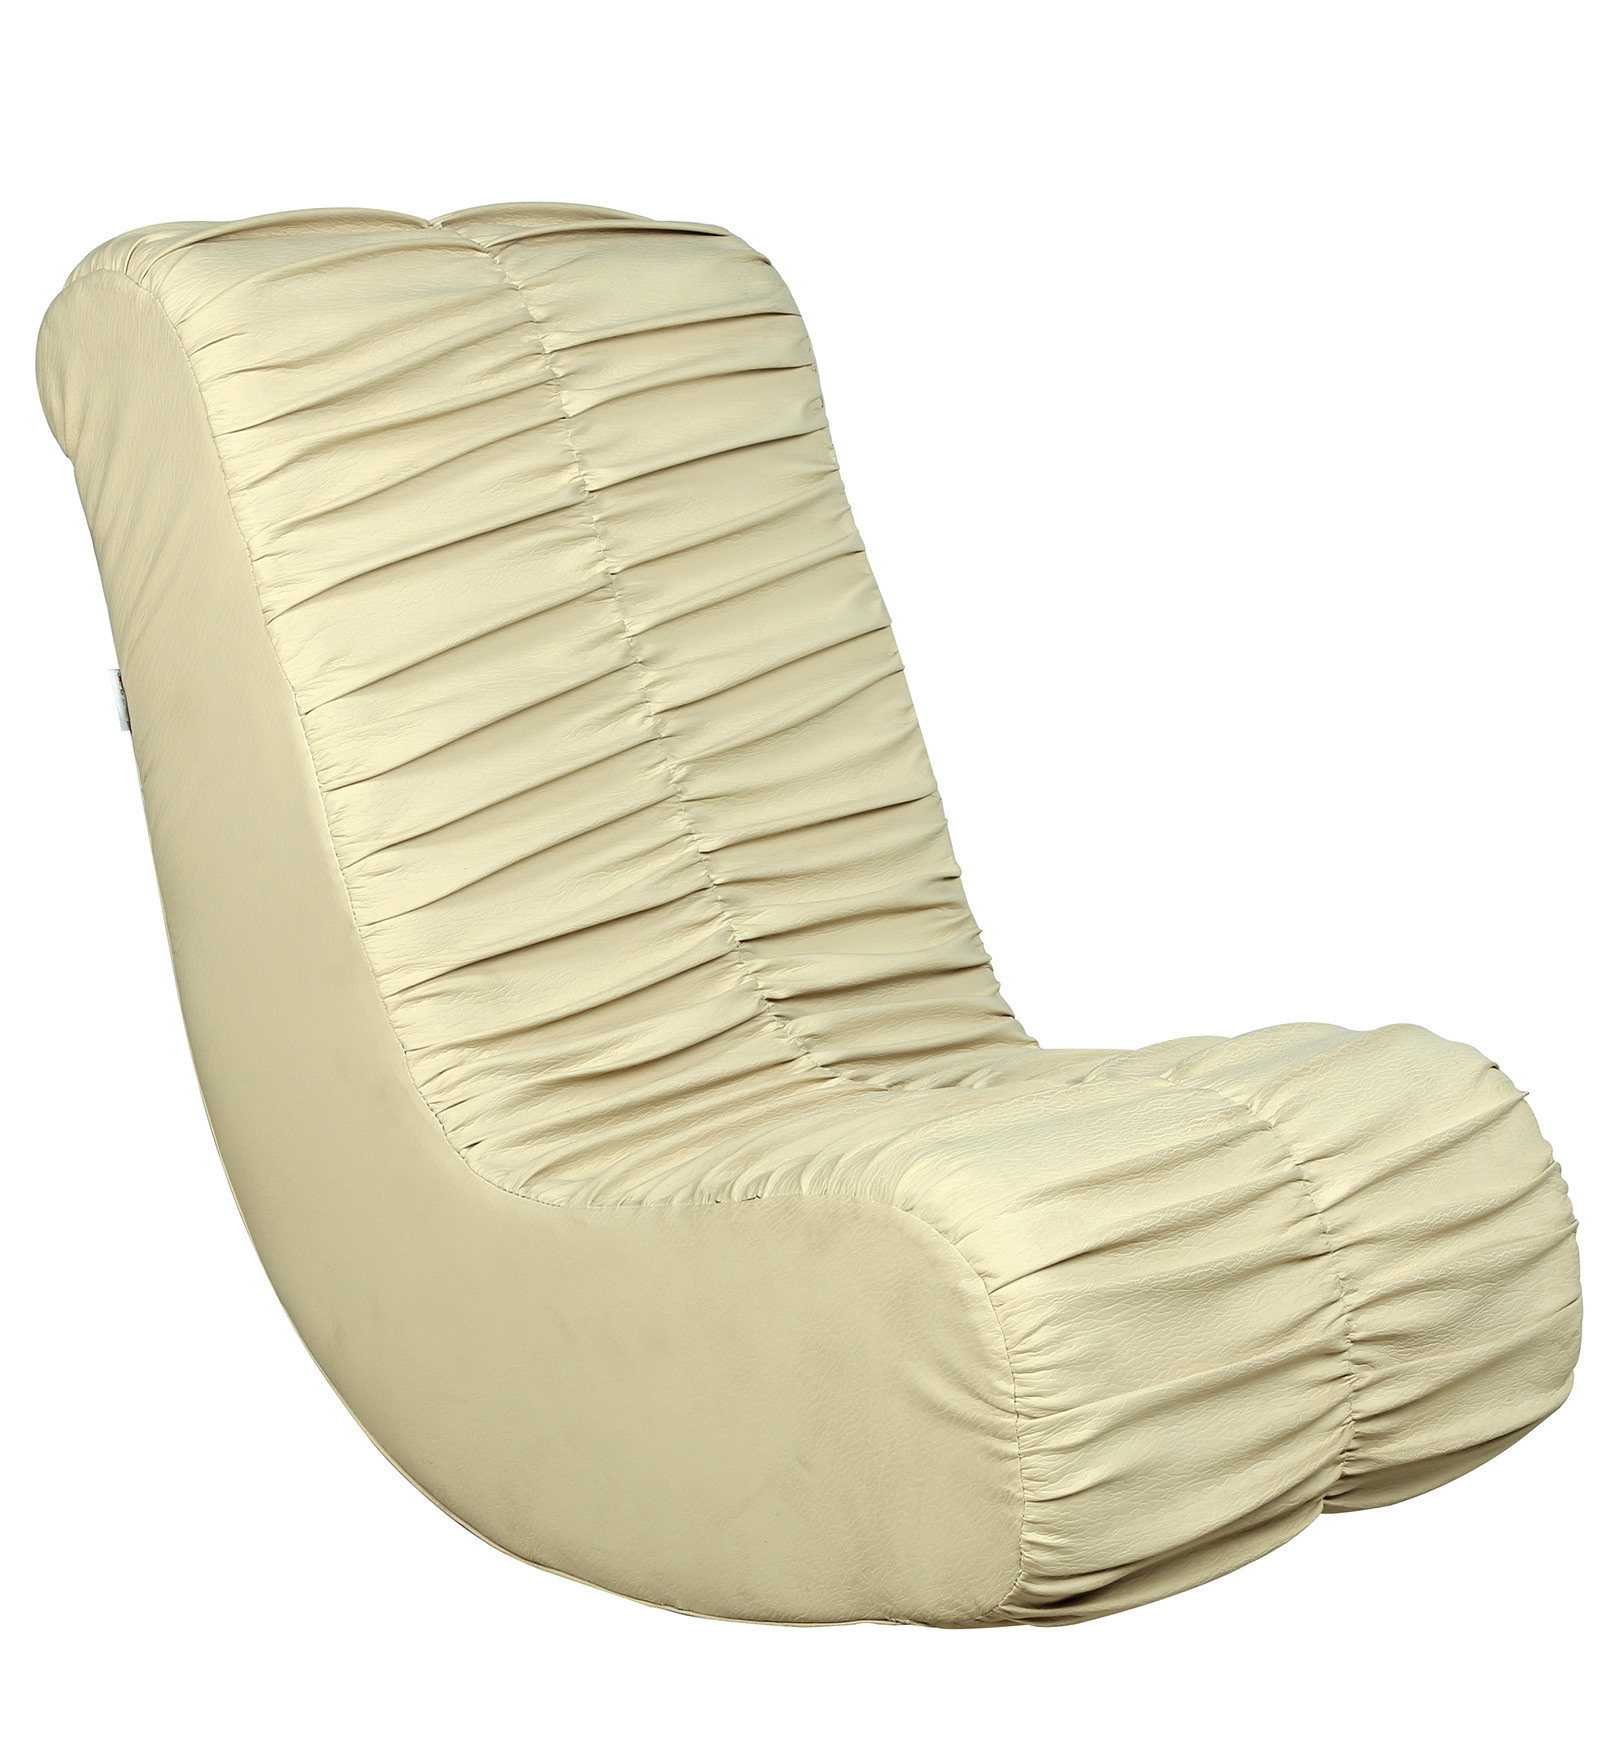Daisy Rocking Chair in Ivory Colour by Parin: (11, 173, 1600, 1650)
